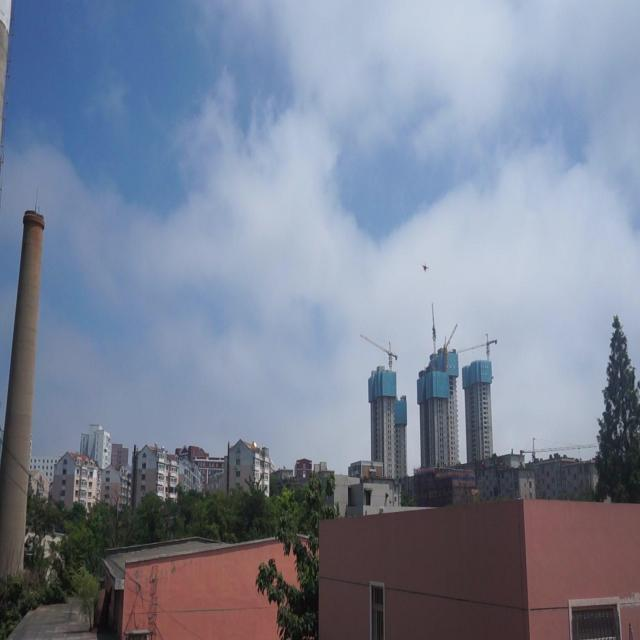UAV: (422, 262, 429, 273)
